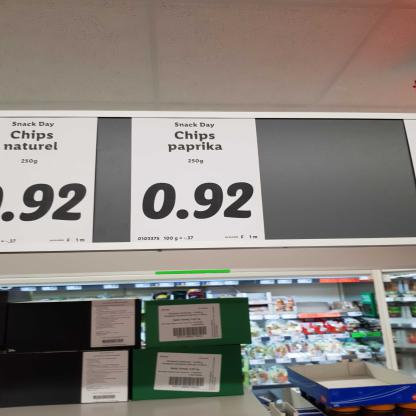prtg: (131, 119, 267, 243), (1, 118, 99, 245)
